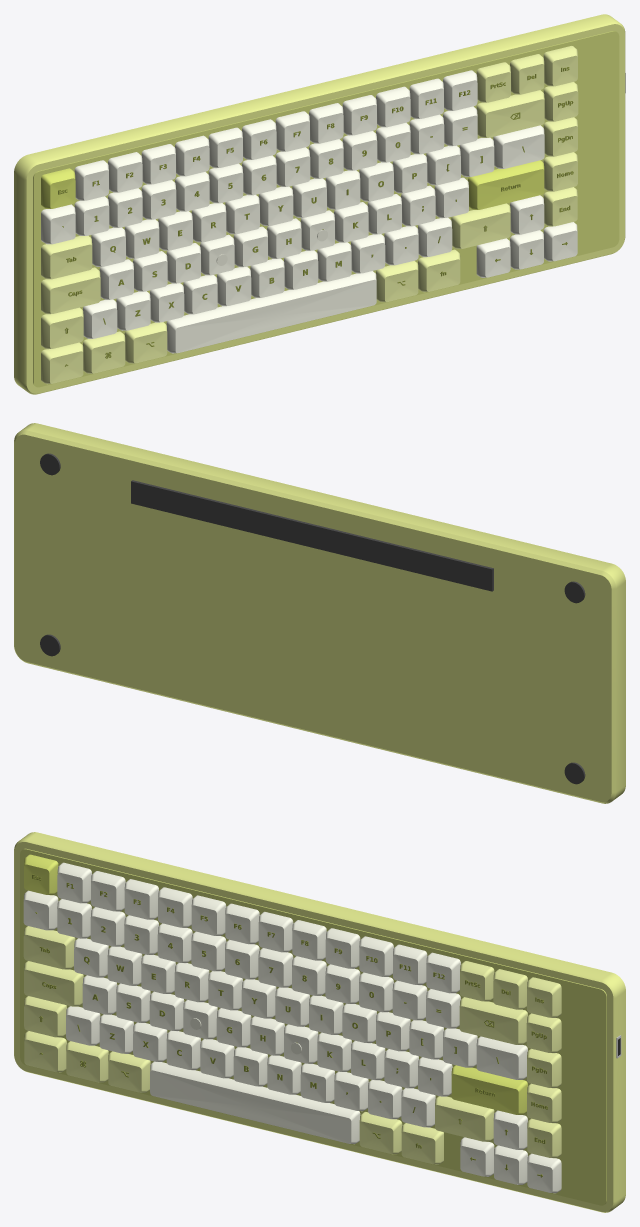
The model's file is flow2_84_volt.glb.
The picture shows the model from 3 angles, top to bottom: view 1: azimuth 30°, elevation 25°; view 2: azimuth 150°, elevation 25°; view 3: azimuth 330°, elevation 25°; orthographic projection.
Visible parts, largest first — view 1: keycaps_alpha, keycaps_mod, case, key_well, keycaps_accent, legends; view 2: case, feet; view 3: keycaps_alpha, keycaps_mod, case, key_well, keycaps_accent, legends.
Part boxes in pixels (x1=…): keycaps_alpha: x1=41, y1=70, x2=577, y2=353; keycaps_mod: x1=41, y1=46, x2=578, y2=384; case: x1=14, y1=14, x2=625, y2=394; key_well: x1=33, y1=31, x2=619, y2=387; keycaps_accent: x1=41, y1=160, x2=544, y2=209; legends: x1=58, y1=67, x2=573, y2=366; case: x1=14, y1=423, x2=625, y2=803; feet: x1=40, y1=453, x2=585, y2=784; keycaps_alpha: x1=23, y1=862, x2=561, y2=1193; keycaps_mod: x1=23, y1=926, x2=561, y2=1164; case: x1=14, y1=832, x2=625, y2=1212; key_well: x1=20, y1=848, x2=606, y2=1205; keycaps_accent: x1=24, y1=854, x2=527, y2=1114; legends: x1=32, y1=874, x2=547, y2=1177.
Size of the model in its own units: 342 by 126 by 21.51.
